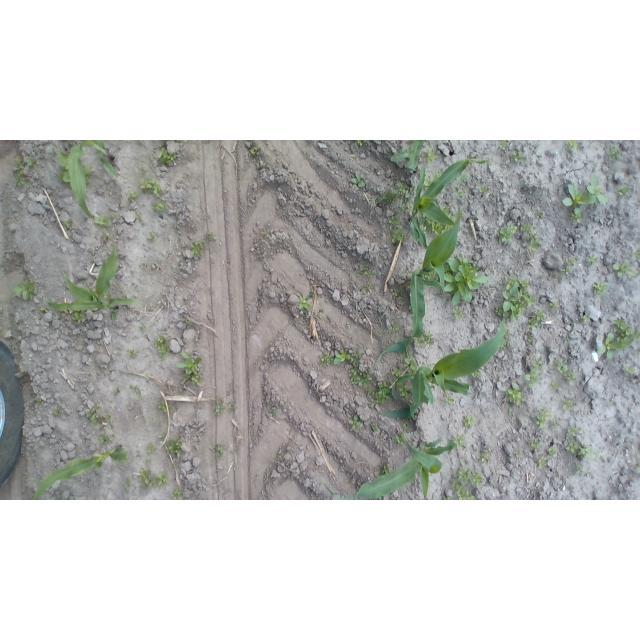Maize: (376, 208, 461, 364), (379, 318, 506, 420), (323, 436, 457, 501), (409, 159, 503, 250), (40, 241, 138, 324), (33, 444, 128, 500), (69, 140, 119, 220), (391, 141, 425, 172)
Weeds: (442, 254, 490, 305), (495, 275, 536, 321), (562, 174, 606, 206), (176, 350, 202, 386), (418, 213, 453, 235), (598, 332, 623, 358), (612, 320, 633, 348), (12, 278, 36, 300), (348, 365, 373, 386), (57, 152, 71, 189), (451, 480, 475, 501), (333, 348, 363, 364), (554, 362, 576, 383), (140, 178, 162, 198), (375, 381, 394, 404), (12, 156, 26, 187), (613, 260, 638, 277), (154, 335, 170, 361), (505, 387, 526, 406), (86, 403, 103, 425), (497, 224, 517, 242), (536, 407, 552, 429), (295, 291, 313, 310), (396, 182, 415, 200), (528, 310, 545, 330), (373, 189, 395, 204), (158, 148, 177, 165), (403, 351, 417, 374), (439, 206, 457, 223), (415, 330, 434, 346), (524, 369, 539, 388), (190, 240, 206, 257), (397, 383, 413, 399), (94, 215, 111, 230), (138, 468, 150, 489), (527, 233, 540, 252), (151, 473, 169, 486), (349, 415, 364, 430), (166, 440, 182, 454), (579, 446, 594, 460), (607, 146, 621, 161), (391, 229, 406, 243), (351, 174, 366, 188), (457, 468, 470, 484), (472, 472, 485, 488), (318, 354, 334, 367), (592, 282, 608, 295), (151, 201, 168, 213), (424, 270, 441, 282), (422, 171, 432, 191), (355, 267, 373, 278), (216, 443, 227, 461), (387, 215, 401, 229), (423, 149, 437, 163), (571, 207, 583, 223), (70, 310, 84, 323), (565, 426, 579, 439), (214, 397, 224, 415), (453, 305, 464, 321), (84, 166, 93, 185), (566, 441, 579, 454), (400, 200, 413, 213), (531, 357, 543, 371), (98, 434, 113, 445), (528, 438, 541, 450), (395, 431, 406, 445), (455, 435, 465, 450), (172, 488, 183, 501), (454, 187, 467, 198), (129, 190, 140, 202), (464, 417, 476, 428), (580, 313, 592, 324), (565, 140, 578, 150), (457, 174, 470, 184), (389, 322, 400, 333), (249, 146, 261, 156), (378, 464, 390, 474), (538, 456, 548, 468), (510, 151, 522, 161), (617, 186, 630, 195), (499, 341, 513, 349), (28, 157, 39, 167), (563, 399, 574, 409), (392, 367, 403, 377), (129, 386, 141, 395), (123, 478, 132, 490), (480, 451, 489, 463), (625, 365, 635, 375), (587, 254, 597, 264), (158, 402, 167, 413), (146, 444, 157, 453), (520, 223, 532, 231), (633, 328, 640, 341), (562, 266, 572, 275), (433, 172, 443, 181), (379, 493, 391, 500), (53, 408, 62, 417), (262, 227, 270, 237), (64, 218, 72, 228), (126, 350, 136, 358), (549, 301, 559, 309), (207, 233, 218, 240), (228, 402, 235, 413), (371, 423, 380, 431), (445, 395, 454, 403), (366, 387, 375, 395), (479, 186, 488, 194), (183, 319, 193, 326), (147, 233, 155, 241), (548, 446, 556, 454), (551, 381, 559, 389), (567, 257, 575, 265), (499, 140, 507, 148), (472, 371, 481, 378), (535, 211, 544, 218), (103, 415, 111, 422), (577, 466, 584, 474), (551, 420, 558, 428), (504, 330, 511, 338), (634, 250, 640, 259), (365, 283, 371, 291), (393, 288, 399, 296), (158, 433, 166, 439), (270, 412, 279, 417), (460, 457, 469, 462), (442, 496, 453, 500), (49, 149, 55, 156), (35, 398, 41, 405), (527, 335, 533, 342), (356, 140, 363, 146), (139, 262, 146, 268), (404, 146, 412, 151), (135, 214, 141, 220), (515, 451, 521, 457), (193, 338, 200, 343), (140, 326, 147, 331), (508, 409, 513, 416), (404, 423, 409, 430), (39, 307, 47, 311), (346, 322, 351, 328), (106, 292, 112, 297), (115, 387, 120, 393), (595, 451, 600, 457), (468, 228, 472, 235), (146, 459, 150, 466), (503, 206, 508, 211), (174, 463, 179, 468), (401, 271, 408, 274), (637, 461, 640, 468), (112, 214, 117, 218), (123, 295, 128, 299), (428, 484, 432, 489), (566, 337, 571, 341), (139, 170, 145, 173), (168, 404, 172, 408), (356, 486, 360, 490), (139, 141, 144, 144), (180, 141, 185, 144), (276, 239, 280, 242), (317, 315, 321, 318), (349, 271, 352, 275), (267, 403, 271, 406), (158, 305, 162, 308), (409, 305, 412, 309), (140, 397, 144, 400), (177, 261, 180, 264), (278, 455, 281, 458)
